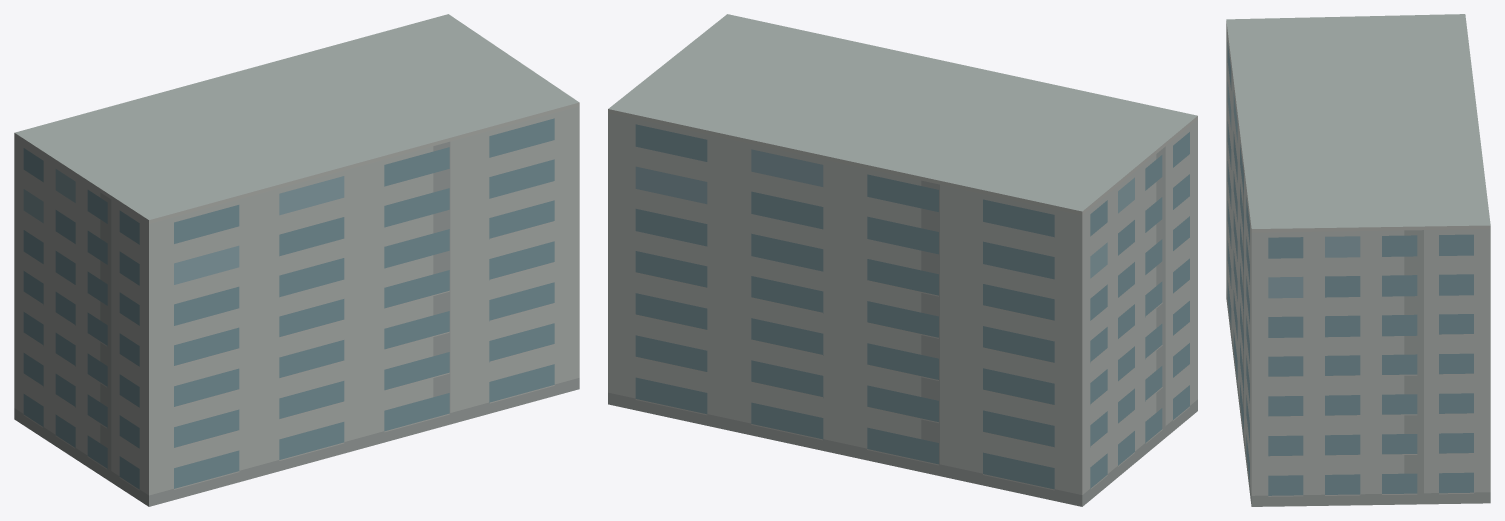
Rendered from survey-upis-32730162.glb.
3 views of the same model, side by side, from view 1: azimuth 30°, elevation 25°; view 2: azimuth 150°, elevation 25°; view 3: azimuth 270°, elevation 25° (orthographic). The views are drawn at different scales.
Parts seen in each view (by area): view 1: survey-upis-32730162.tmp; view 2: survey-upis-32730162.tmp; view 3: survey-upis-32730162.tmp.
Boxes of the visible parts, x1,y1,x2,y2 form: survey-upis-32730162.tmp: [14, 14, 579, 506]; survey-upis-32730162.tmp: [608, 14, 1197, 506]; survey-upis-32730162.tmp: [1226, 14, 1490, 506].
Size of the model in its own units: 30.89 by 18.6 by 16.05.
